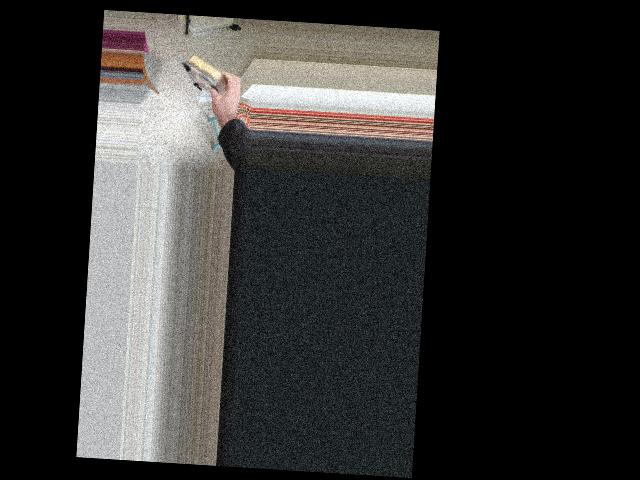cheese: (170, 44, 250, 109)
